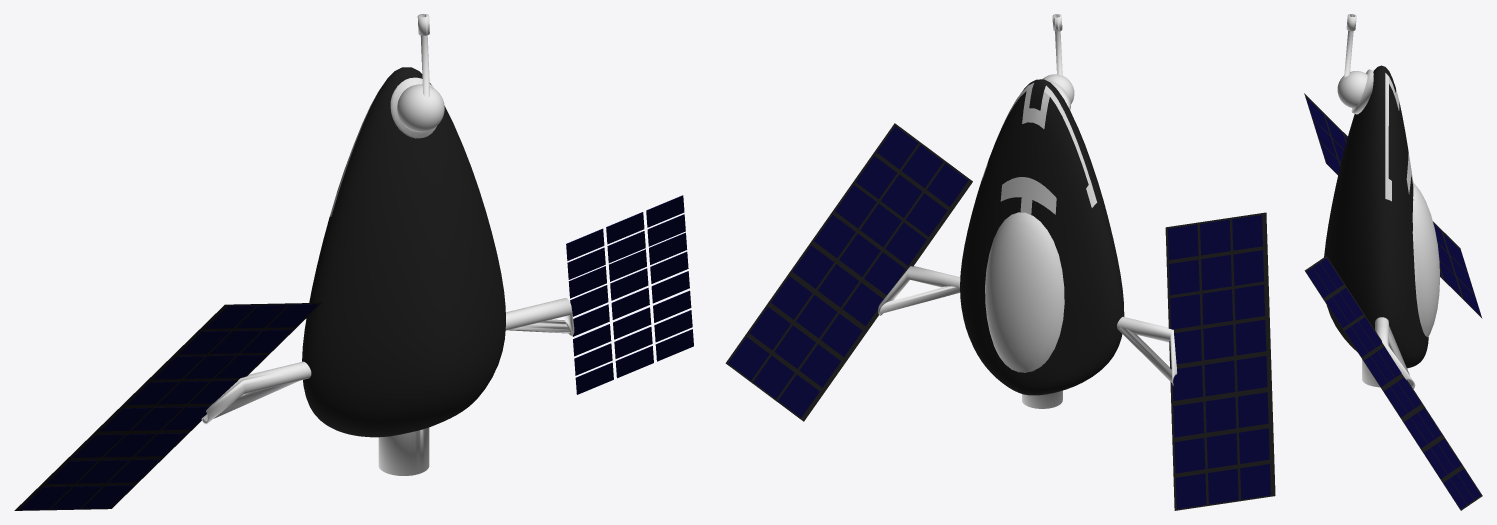
The model's file is SpaceShip.fbx.
3 renders of one model, left to right at view 1: azimuth 30°, elevation 25°; view 2: azimuth 150°, elevation 25°; view 3: azimuth 270°, elevation 25°, orthographic. The views are drawn at different scales.
Visible parts, largest first — view 1: Body, Left Panels, Right Panels, Right Wing, Fasteners, Turbo, Gun Head, Gun mount; view 2: Body, Right Panels, Left Panels, Cabin, Right Wing, Left Wing, Fasteners, Neon; view 3: Body, Left Panels, Cabin, Right Panels, Left Wing, Right Wing, Neon, Gun Head, Fasteners, Gun, Gun mount, Turbo.
Part boxes in pixels (left/top/right/bottom): Body: left=302, top=67, right=505, bottom=437; Left Panels: left=566, top=195, right=693, bottom=394; Right Panels: left=20, top=304, right=318, bottom=509; Right Wing: left=14, top=302, right=321, bottom=510; Fasteners: left=201, top=298, right=574, bottom=424; Turbo: left=378, top=427, right=429, bottom=475; Gun Head: left=397, top=84, right=444, bottom=132; Gun mount: left=390, top=77, right=436, bottom=138; Body: left=960, top=79, right=1124, bottom=395; Right Panels: left=1167, top=215, right=1270, bottom=508; Left Panels: left=728, top=126, right=968, bottom=417; Cabin: left=985, top=212, right=1064, bottom=372; Right Wing: left=1165, top=212, right=1275, bottom=510; Left Wing: left=725, top=123, right=972, bottom=421; Fasteners: left=878, top=266, right=1177, bottom=385; Neon: left=982, top=83, right=1097, bottom=214; Body: left=1324, top=65, right=1428, bottom=368; Left Panels: left=1306, top=258, right=1480, bottom=509; Cabin: left=1412, top=183, right=1439, bottom=337; Right Panels: left=1306, top=97, right=1481, bottom=316; Left Wing: left=1304, top=256, right=1482, bottom=510; Right Wing: left=1304, top=93, right=1482, bottom=318; Neon: left=1385, top=73, right=1413, bottom=201; Gun Head: left=1337, top=71, right=1367, bottom=108; Fasteners: left=1375, top=317, right=1415, bottom=388; Gun: left=1344, top=14, right=1356, bottom=77; Gun mount: left=1351, top=69, right=1373, bottom=114; Turbo: left=1362, top=359, right=1379, bottom=387.
Size of the model in its own units: 975 by 682 by 282.
